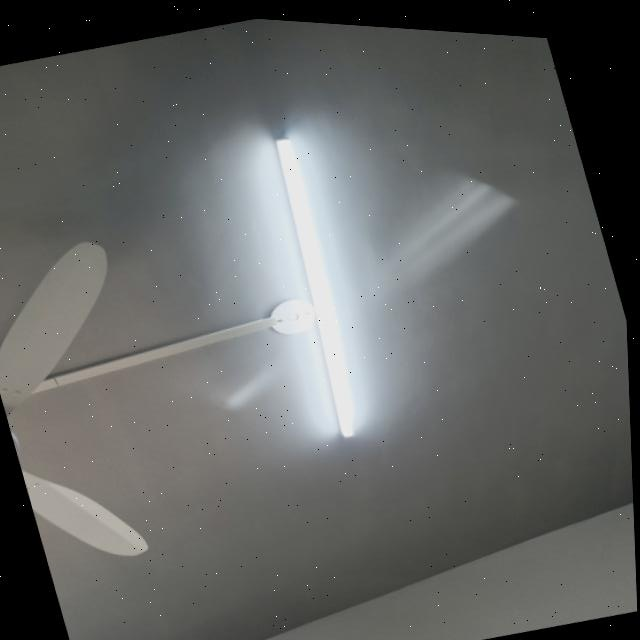fluorescent tube: (247, 121, 387, 450)
